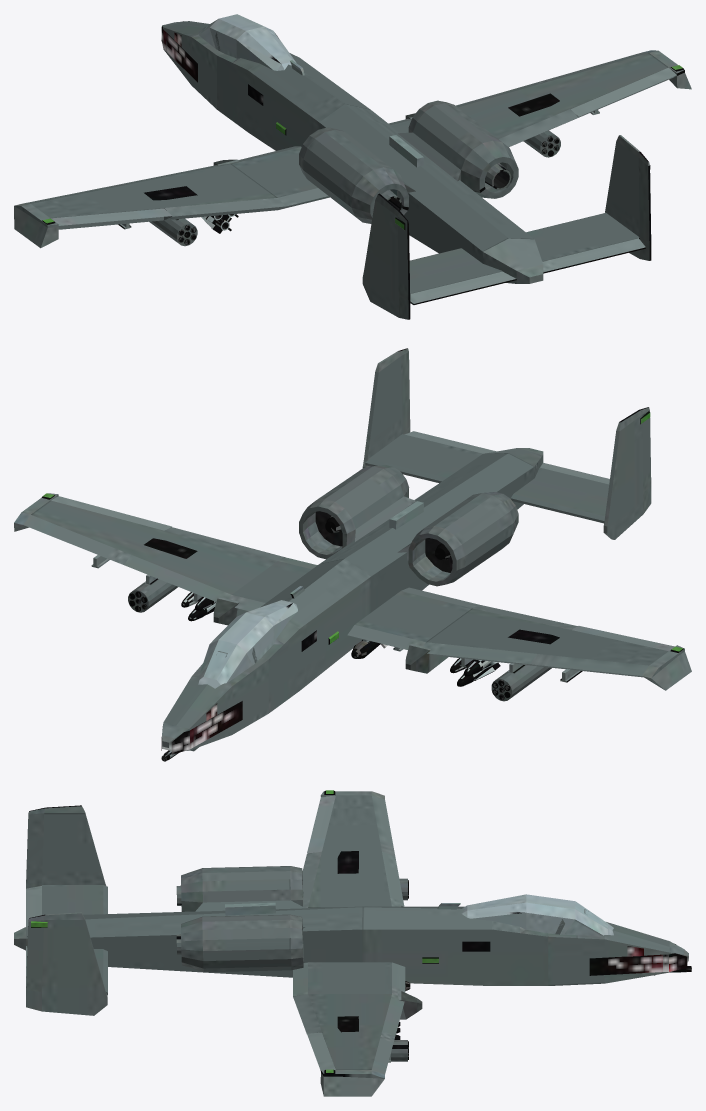
3 renders of one model, top to bottom at view 1: azimuth 30°, elevation 25°; view 2: azimuth 150°, elevation 25°; view 3: azimuth 270°, elevation 25°, orthographic. The views are drawn at different scales.
Parts seen in each view (by area): view 1: a10; view 2: a10; view 3: a10.
Boxes of the visible parts, bbox=[...] form: a10: bbox=[14, 14, 691, 319]; a10: bbox=[14, 348, 691, 761]; a10: bbox=[14, 790, 691, 1096].
Size of the model in its own units: 17.46 by 3.54 by 17.29.
1 material, 1 textured.
